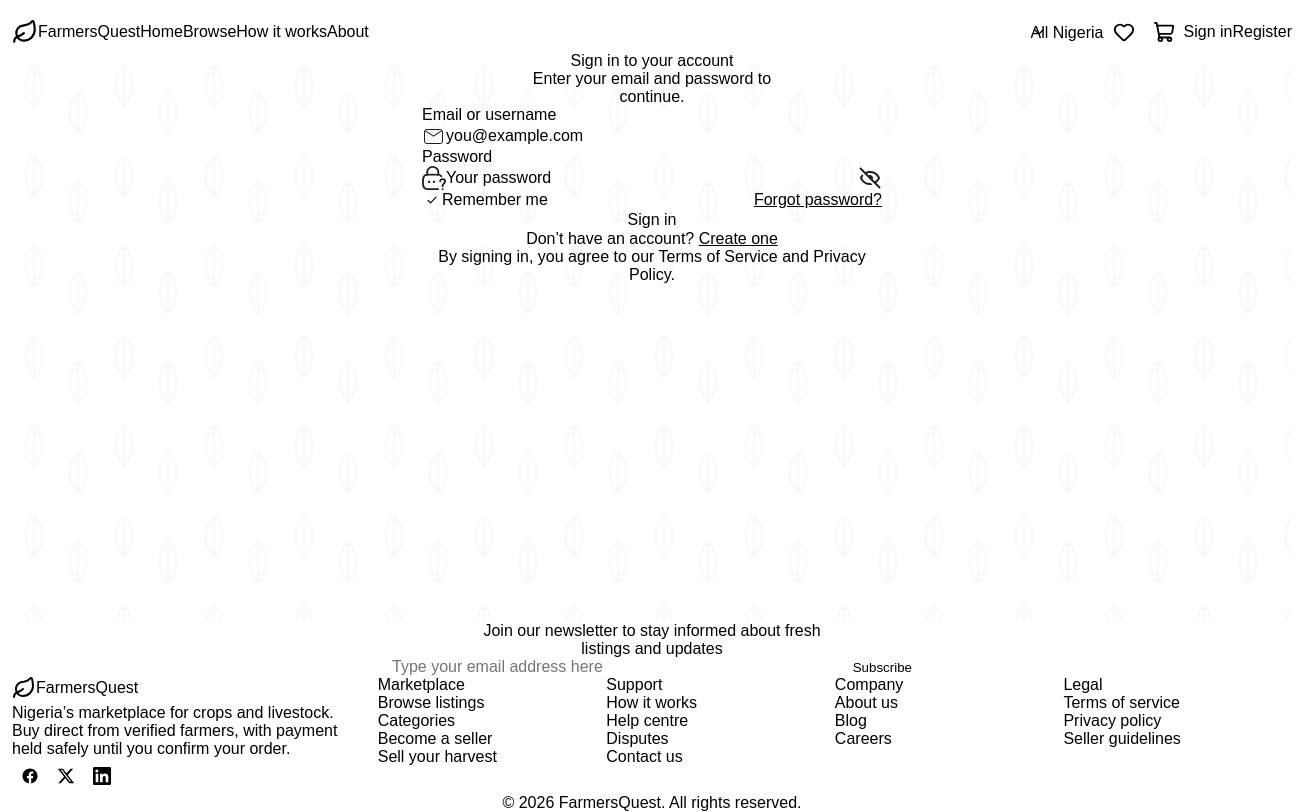
Test case: SignInScreen › shows one generic error on bad credentials and never reveals the field
Type "ada@example.com" into the field labelled "Email or username" at (664, 136), box [446,127,882,145]
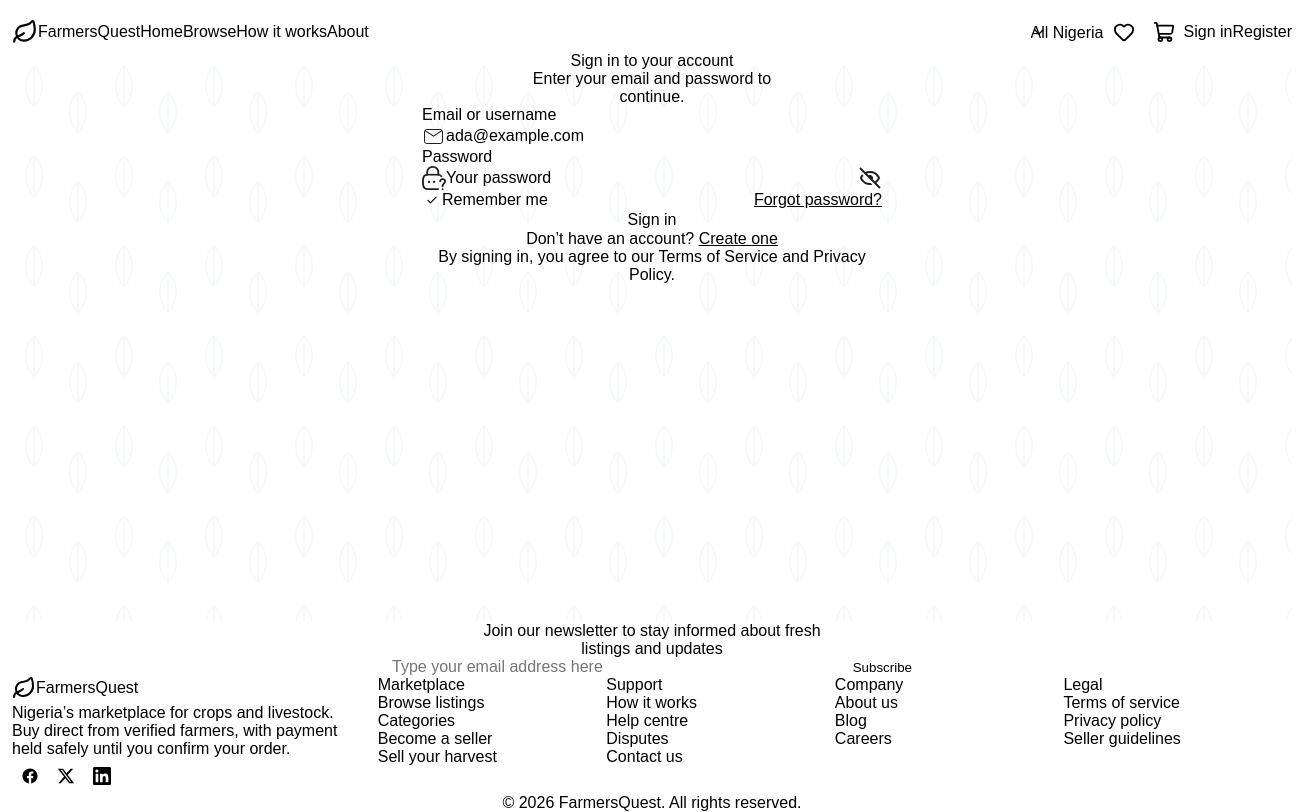
Type "wrong-pass" into the password field labelled "Password" at (652, 178), box [446,169,858,187]
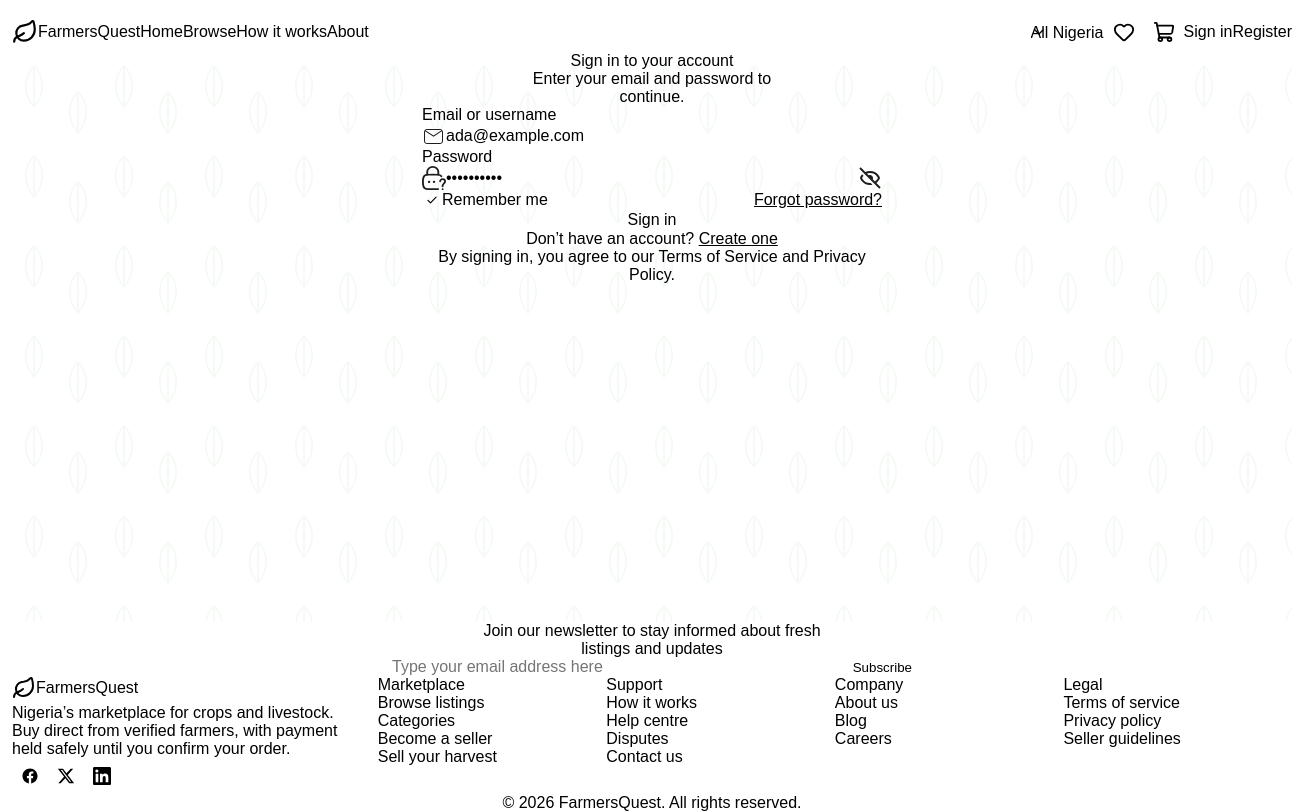
Click the button "Sign in" at (652, 220), box [422,210,882,230]
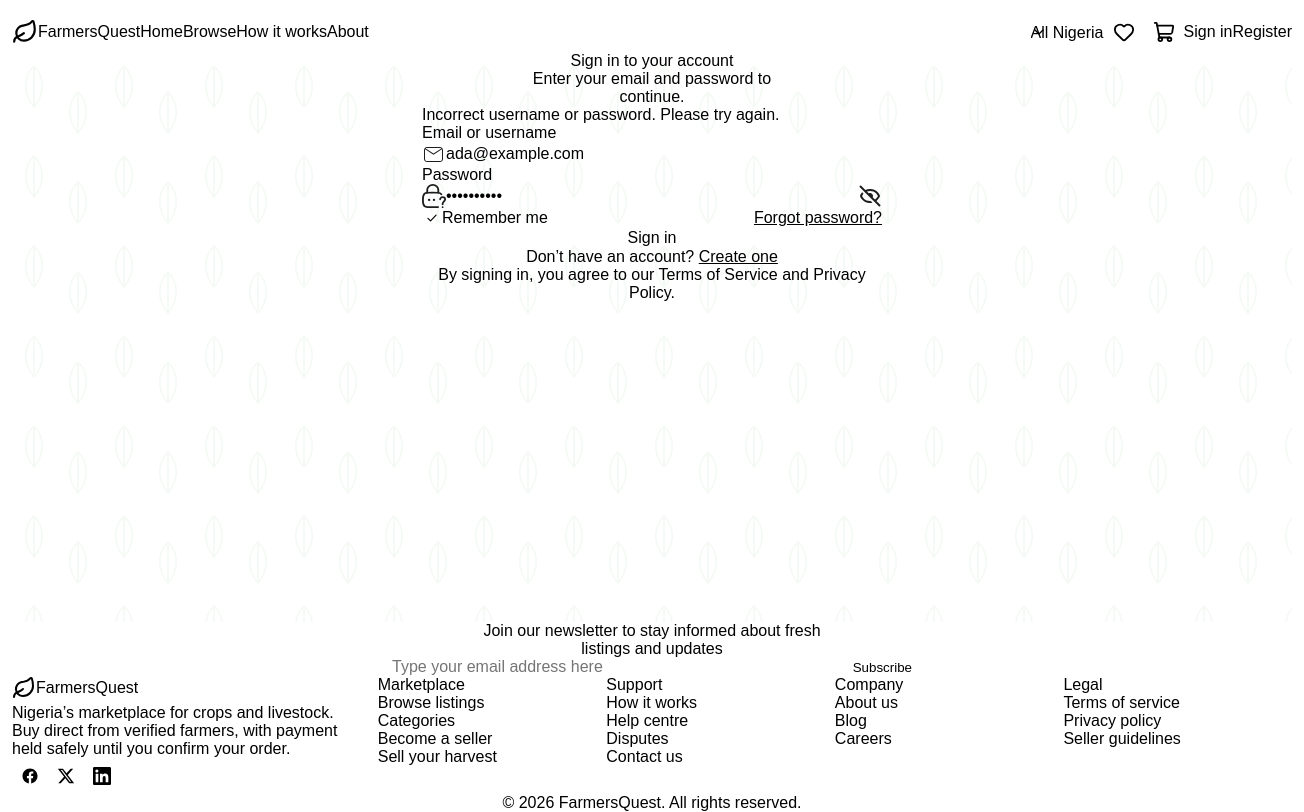
Now the text "Incorrect username or password. Please try again." is shown, box [422,106,780,123]
